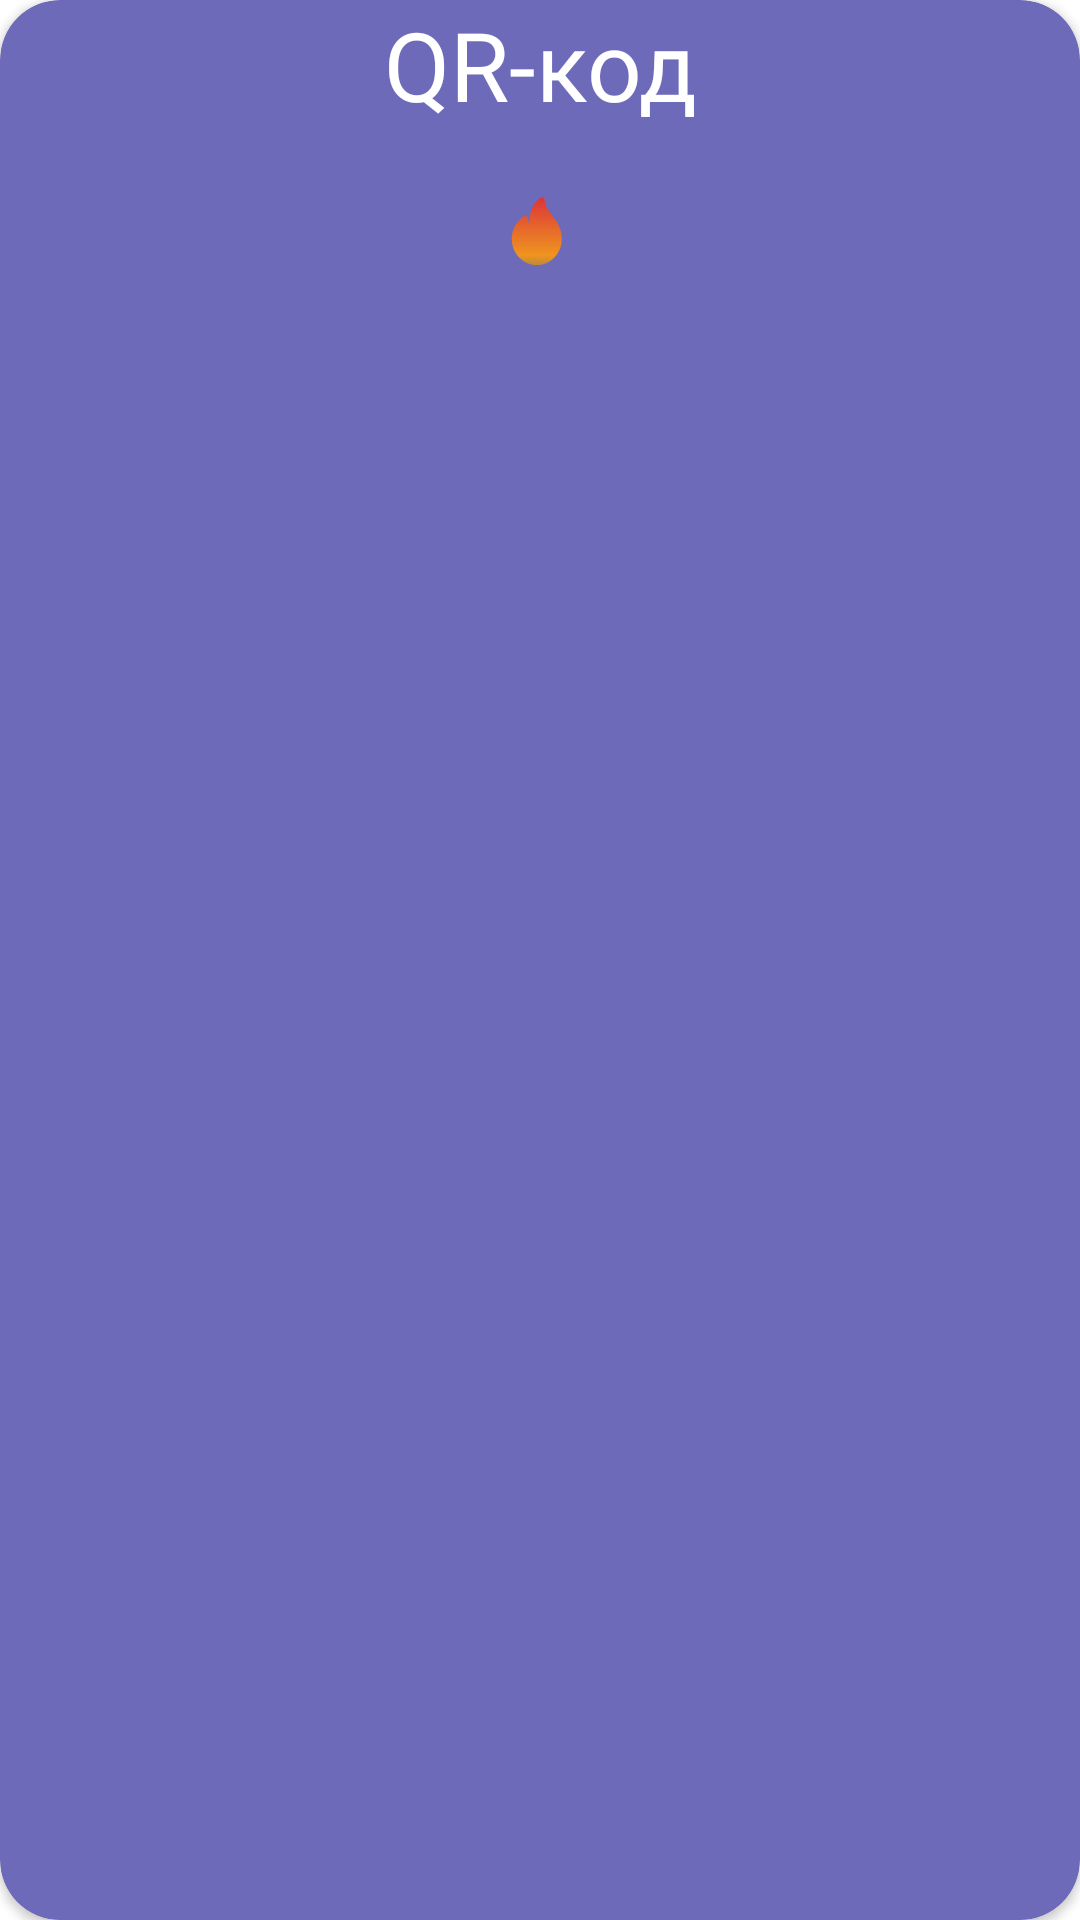

Icons on this 1080px×1920px Android screen, each with the point to tap as point (x, y):
coin fire: point (536, 231)
